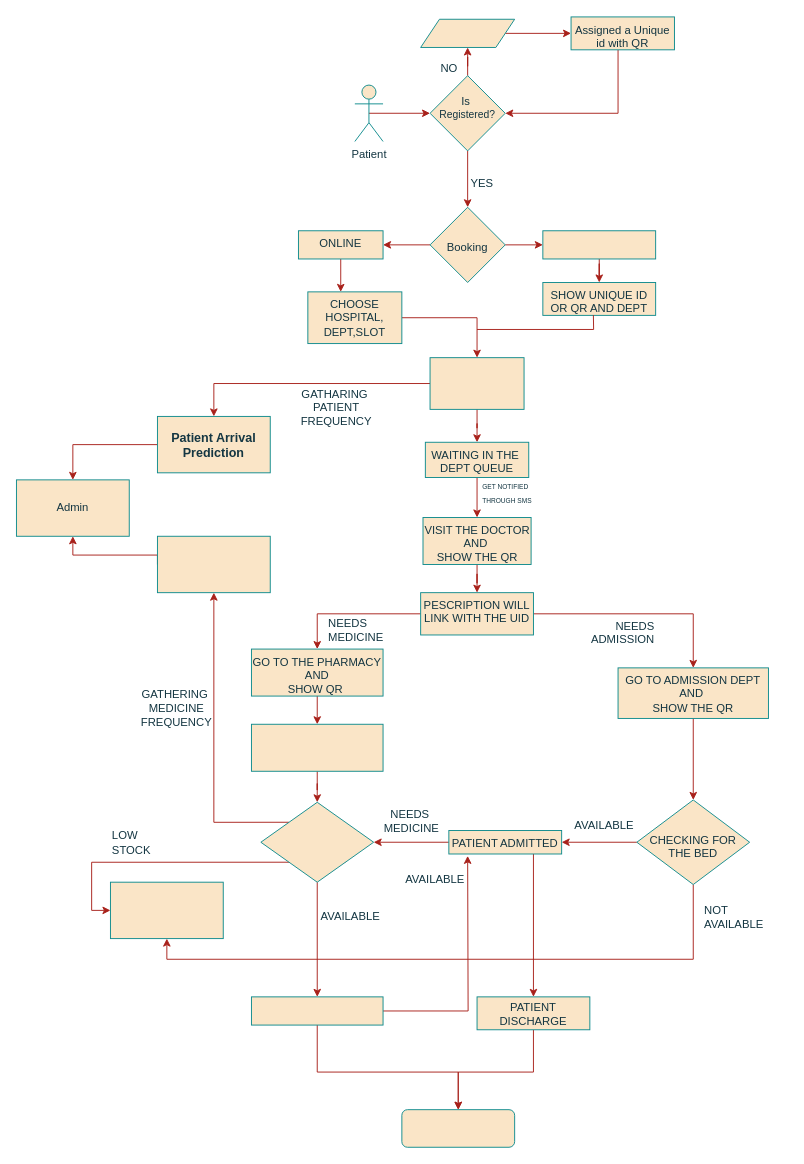
The diagram is 804 pixels wide and 1164 high, and some of its shapes have lost their labels. The shapes that lost their labels are listed below. From the top down, each one's centre as x and y in pixels, then its label:
the point at 467,32: Do registration
the point at 599,244: OFFLINE
the point at 476,383: ENLIST NAME IN THE DEPT QUEUE
the point at 213,564: Medicine Demand Forecasting
the point at 317,747: ENLIST NAME IN THE PHARMACY QUEUE
the point at 317,841: CHECK INVENTORY
the point at 166,910: UPDATE TO NIC SERVER
the point at 317,1010: GET MEDICINES
the point at 458,1128: END
